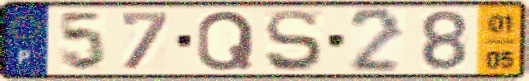2: (345, 5, 409, 76)
5: (55, 10, 109, 72)
7: (117, 9, 172, 73)
8: (417, 9, 471, 73)
Q: (193, 9, 256, 73)
S: (262, 7, 326, 74)
